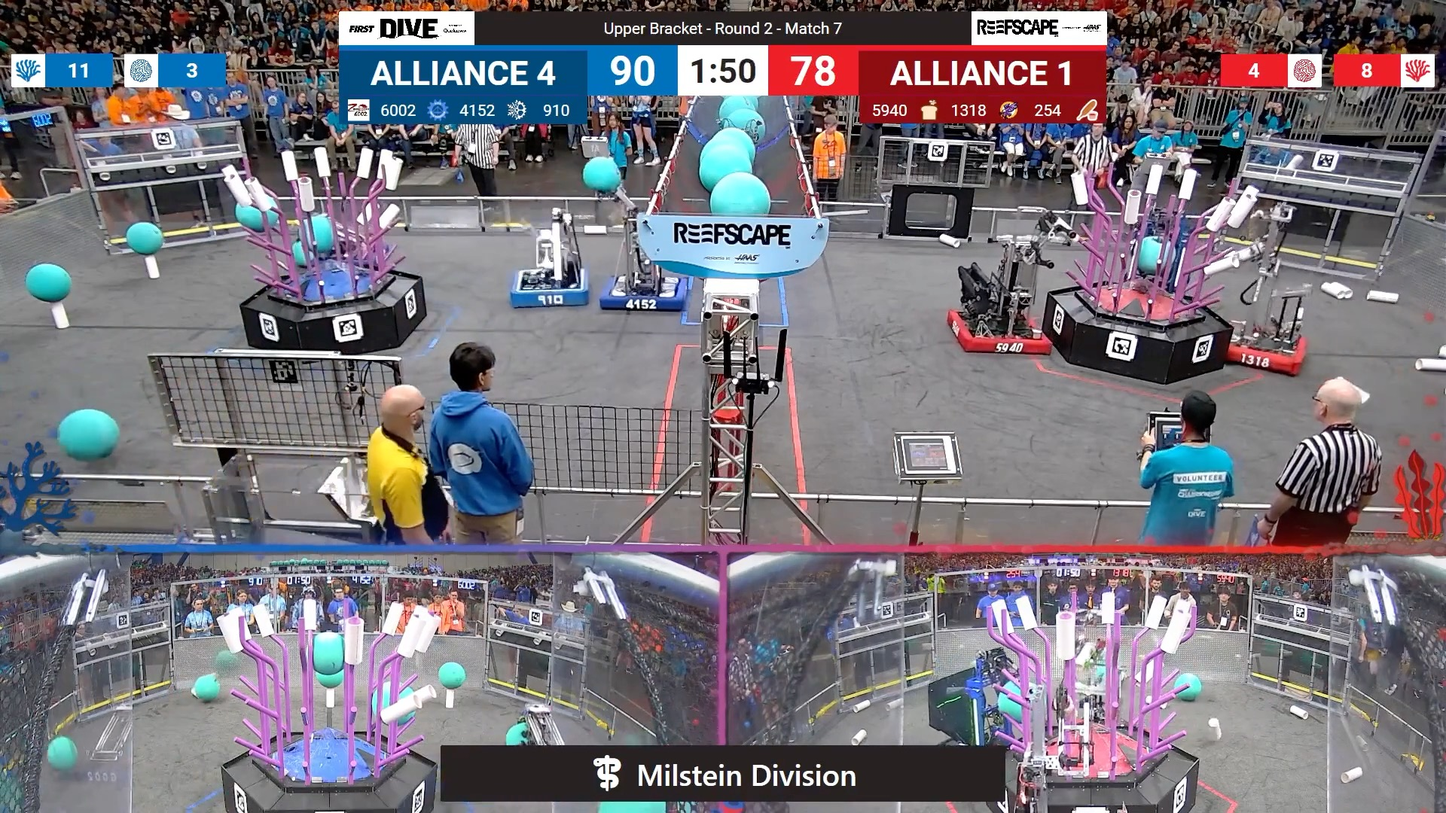bumpers: (942, 306, 1057, 363), (1219, 324, 1319, 379), (597, 273, 695, 319), (505, 266, 596, 315)
